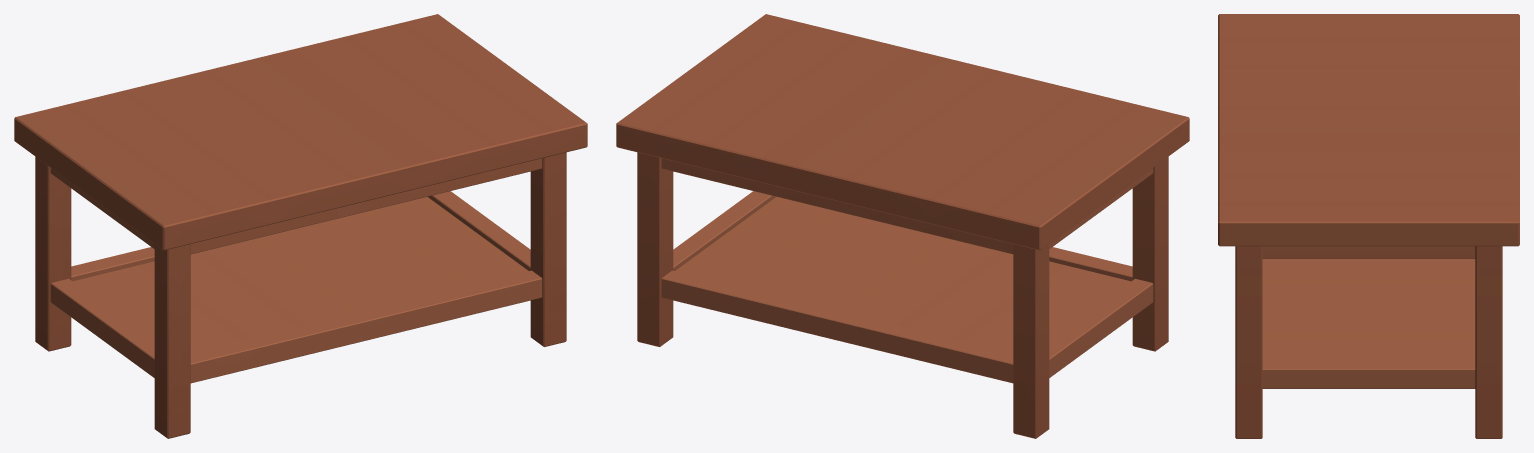
File: SmallTable2.glb
3 views of the same model, side by side, from view 1: azimuth 30°, elevation 25°; view 2: azimuth 150°, elevation 25°; view 3: azimuth 270°, elevation 25° (orthographic).
Parts seen in each view (by area): view 1: SmallTable2; view 2: SmallTable2; view 3: SmallTable2.
Part boxes in pixels (box(x1,y1,x2,y2)): SmallTable2: box(14, 14, 587, 438); SmallTable2: box(616, 14, 1189, 438); SmallTable2: box(1218, 14, 1519, 438).
Size of the model in its own units: 0.9 by 0.45 by 0.55.
Materials: 1 (1 with a texture image).
